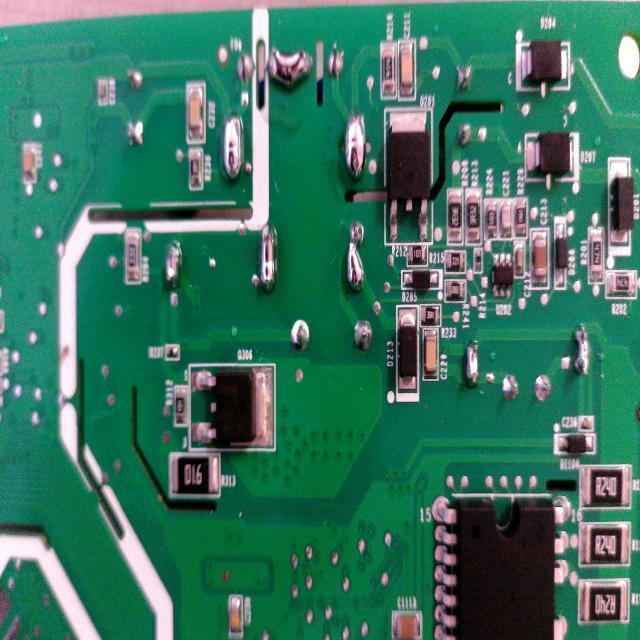Soldering shorted: (266, 44, 317, 97), (220, 109, 246, 188), (344, 218, 368, 292), (258, 218, 280, 298), (344, 106, 367, 182), (164, 234, 184, 294), (573, 322, 590, 378), (463, 336, 481, 388)
